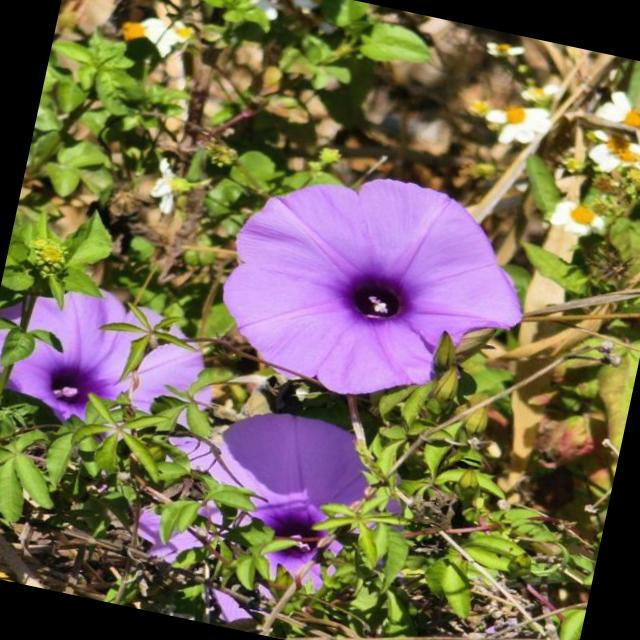ipomoea: (202, 146, 549, 431), (128, 384, 422, 616), (0, 266, 227, 455)
